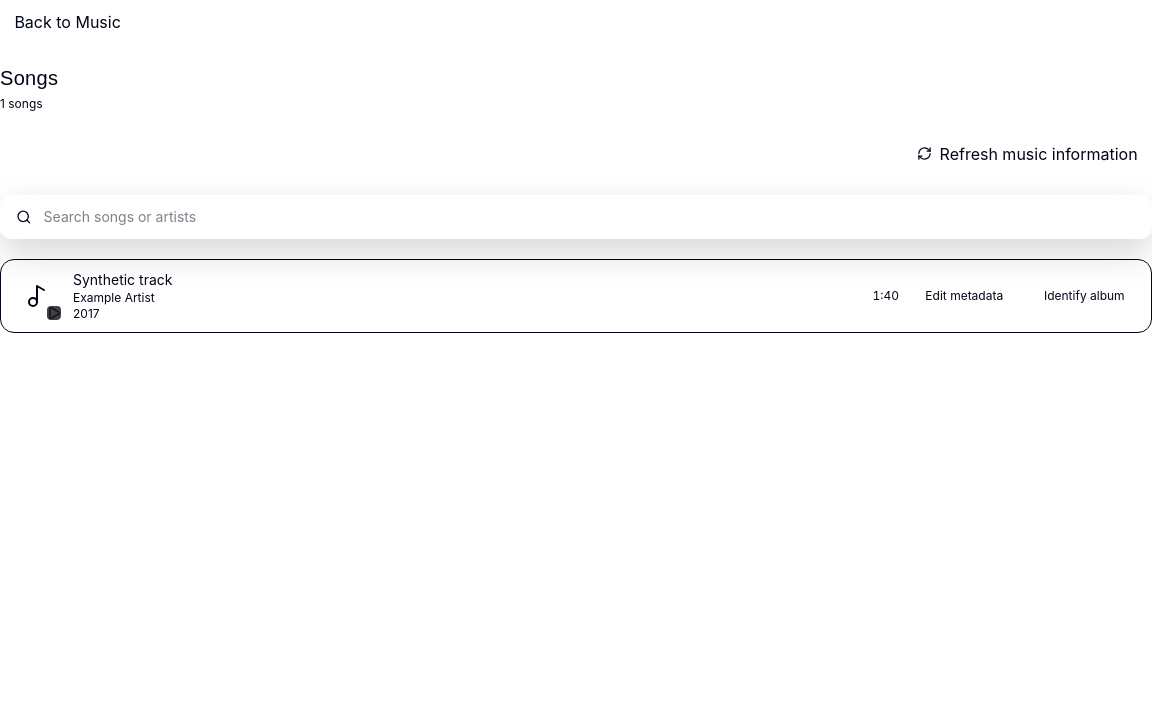
Test: Music search distinguishes no matches, validation failure and provider failure; clears stale candidates
Click the button "Identify album".
click(1084, 296)  # box top-left (1030, 274), bottom-right (1139, 318)
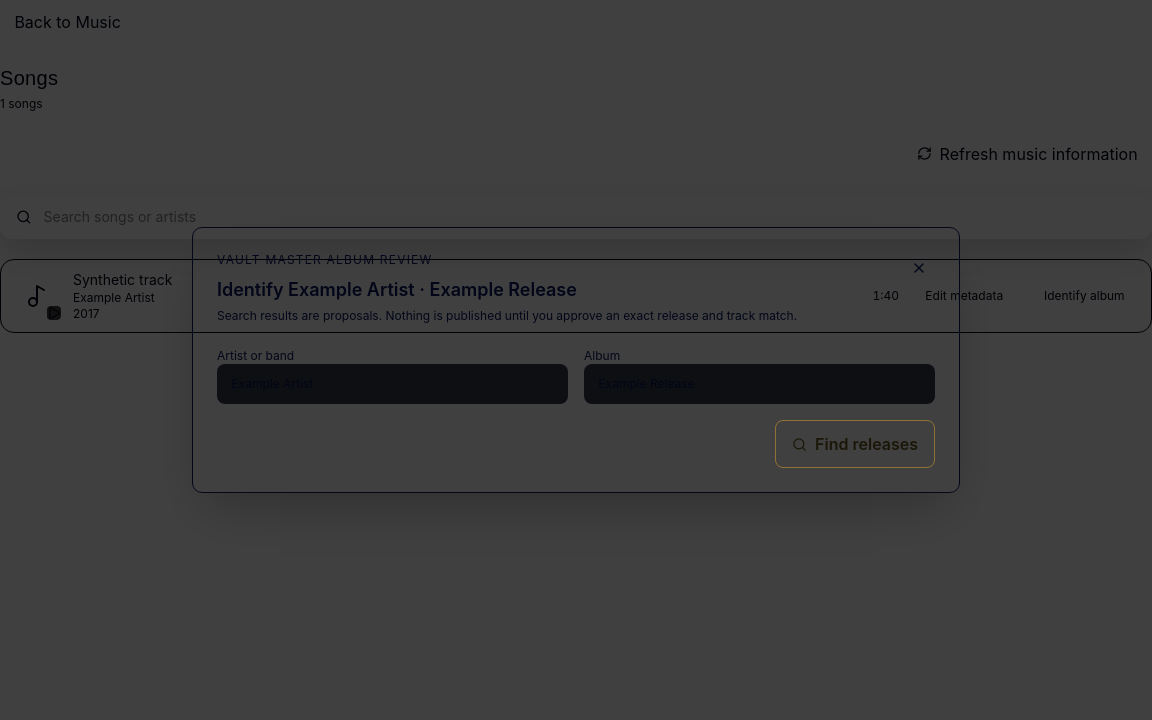
Expected: the button "Find releases" is shown
Click the button "Find releases".
click(855, 444)  # box top-left (775, 420), bottom-right (935, 468)
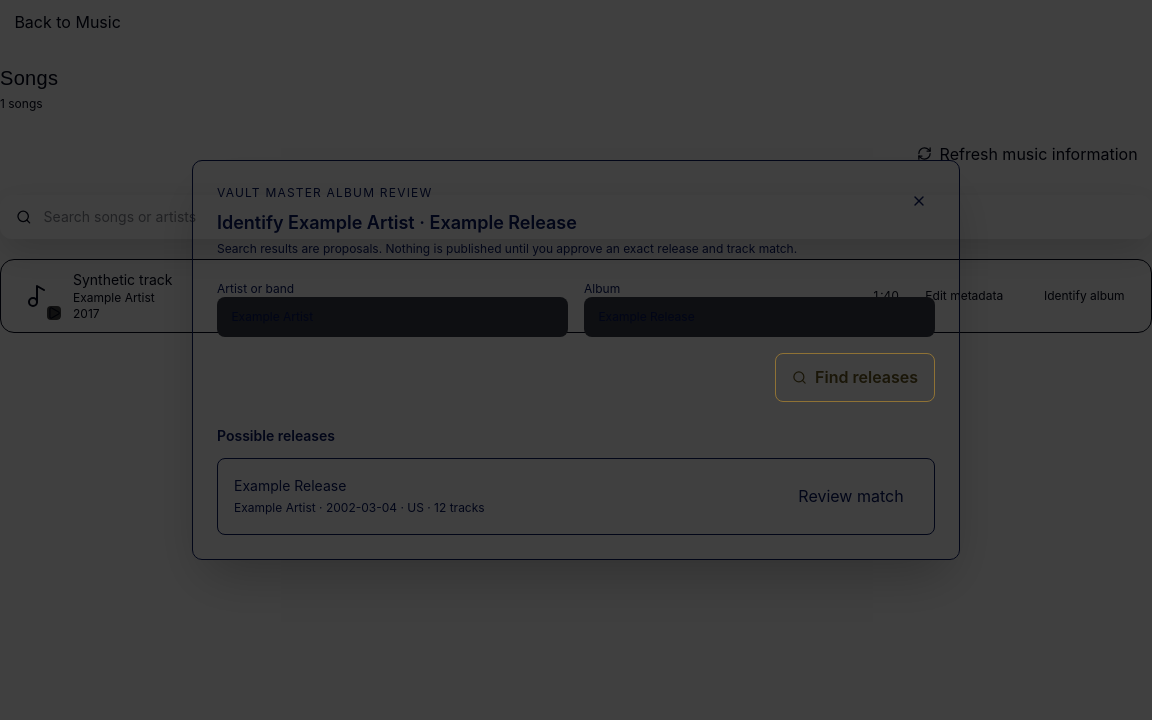
Expected: the button "Find releases" is shown
Expected: the text "Possible releases" is shown, top-left (217, 427), bottom-right (335, 444)
Click the button "Find releases".
click(855, 377)  # box top-left (775, 353), bottom-right (935, 402)
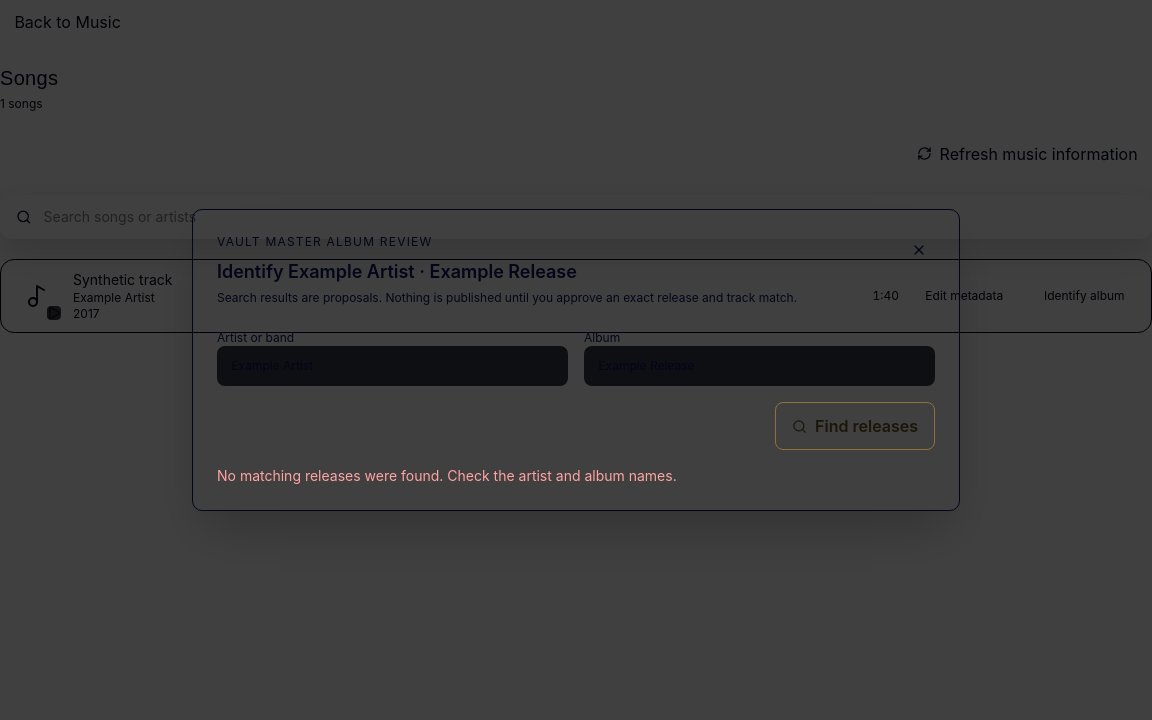
Expected: the button "Find releases" is shown
Expected: the text "No matching releases were found." is shown, top-left (217, 467), bottom-right (677, 484)
Expected: the text "Possible releases" is gone
Click the button "Find releases".
click(855, 426)  # box top-left (775, 402), bottom-right (935, 450)
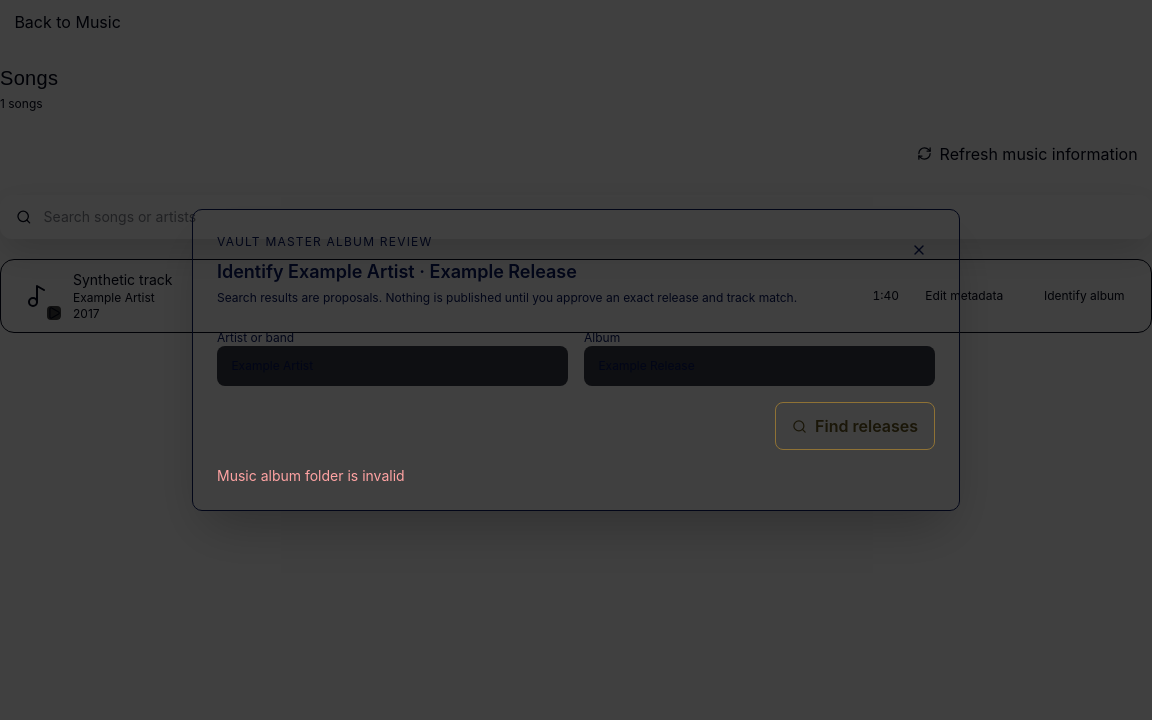
Expected: the button "Find releases" is shown
Expected: the text "Music album folder is invalid" is shown, top-left (217, 467), bottom-right (405, 484)
Click the button "Find releases".
click(855, 426)  # box top-left (775, 402), bottom-right (935, 450)
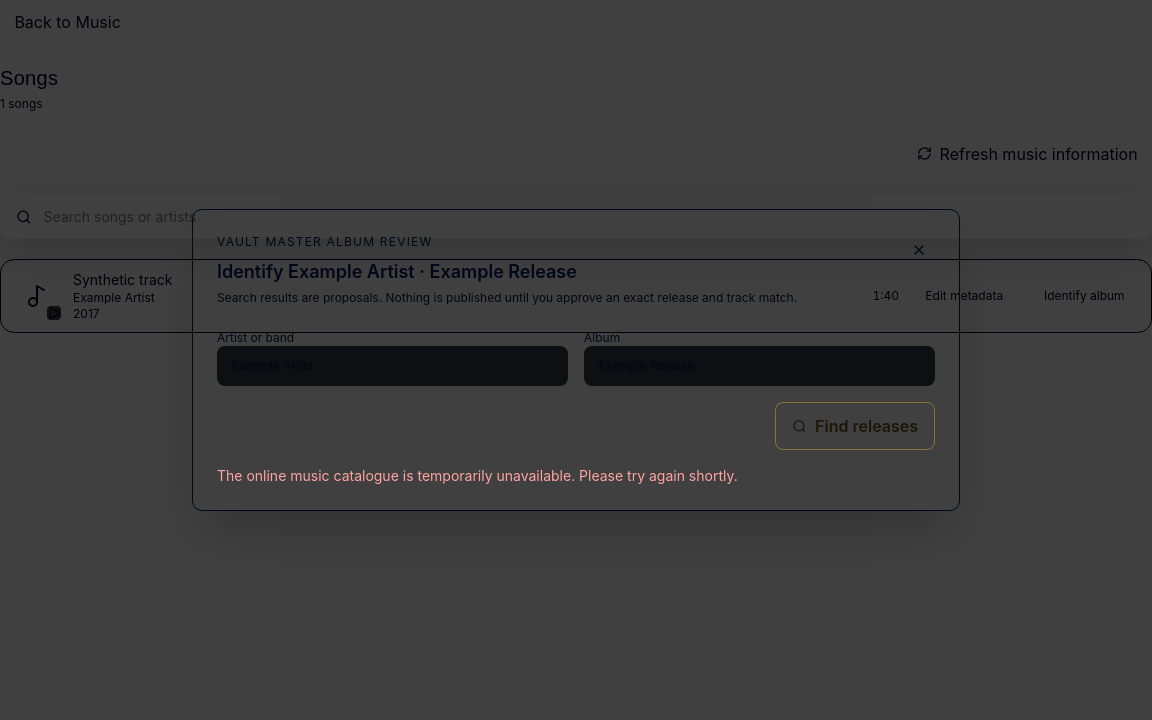
Expected: the text "The online music catalogue is temporarily unavailable." is shown, top-left (217, 467), bottom-right (738, 484)
